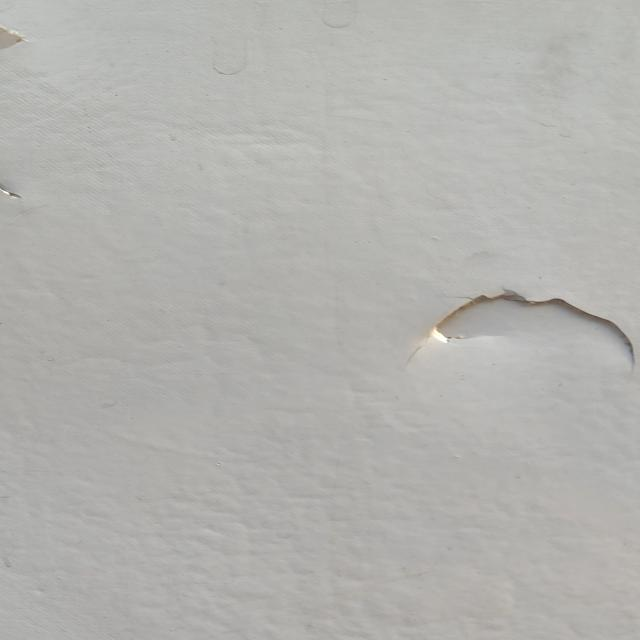Scratches: (408, 276, 640, 376), (1, 168, 40, 231), (1, 20, 52, 63)
